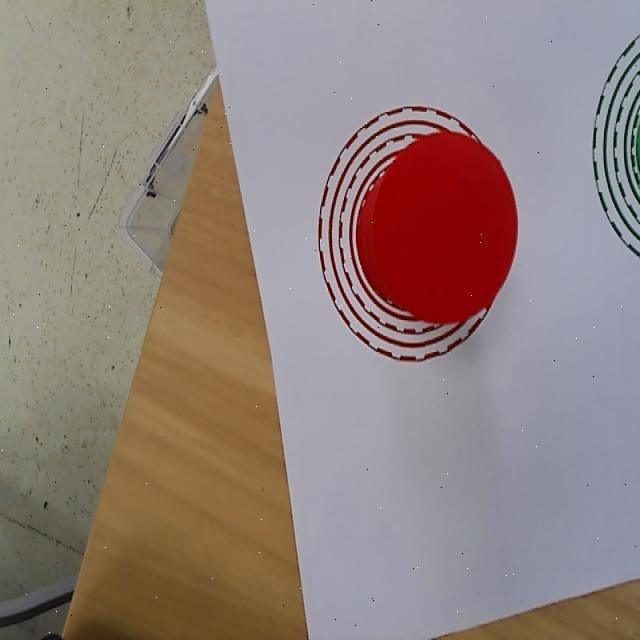r: (372, 132, 518, 324)
